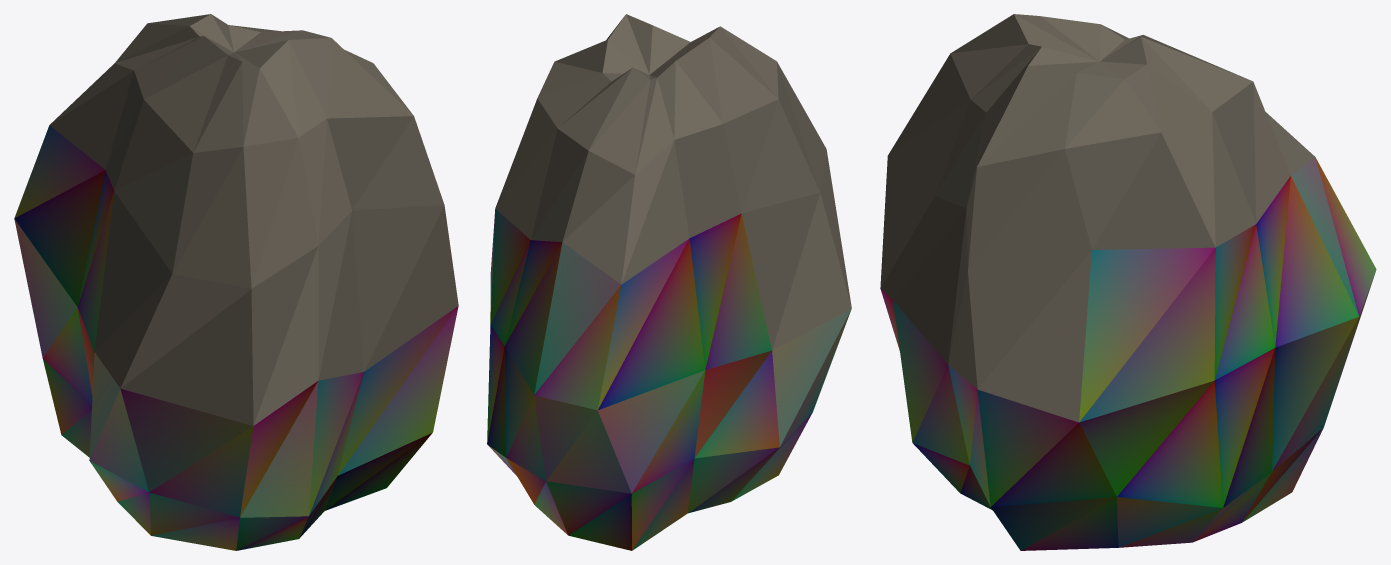
Rendered from rock_02.glb.
3 views of the same model, side by side, from view 1: azimuth 30°, elevation 25°; view 2: azimuth 150°, elevation 25°; view 3: azimuth 270°, elevation 25° (orthographic). The views are drawn at different scales.
Visible parts, largest first — view 1: rock_02; view 2: rock_02; view 3: rock_02.
Boxes of the visible parts, x1,y1,x2,y2 form: rock_02: (14,14,458,550); rock_02: (487,14,851,550); rock_02: (880,14,1376,550).
Size of the model in its own units: 0.8361 by 1.05 by 1.02.
